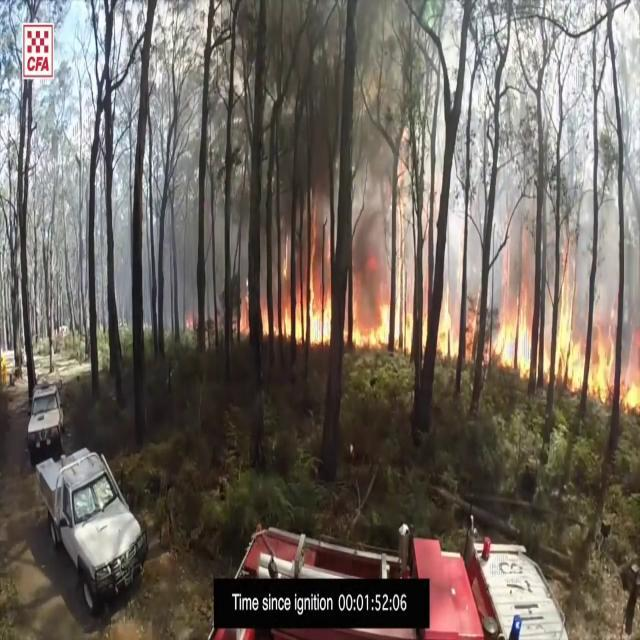Fire: (490, 236, 640, 422), (280, 205, 412, 355), (350, 258, 410, 356)
Smoke: (238, 2, 402, 258)
